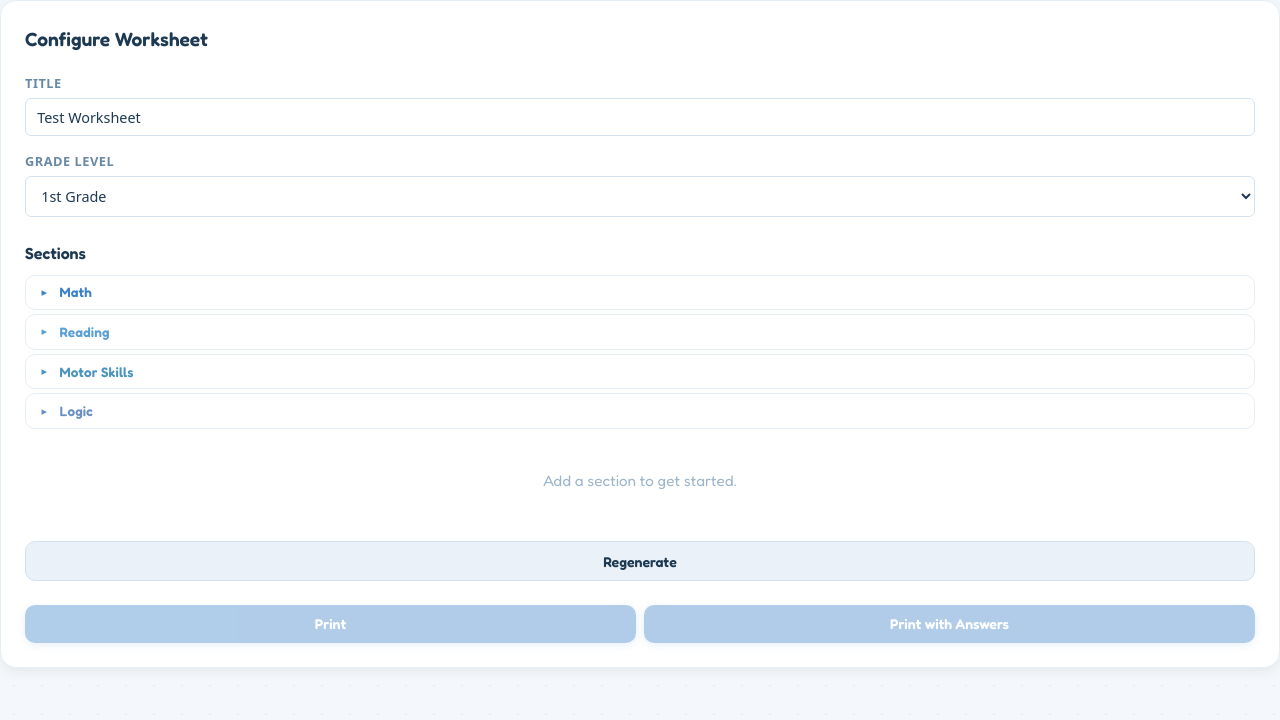
Test: ConfigPanel › shows all motor skills subtypes when expanded
Click the text "Motor Skills" at (97, 372), box x1=60 y1=364 x2=134 y2=380
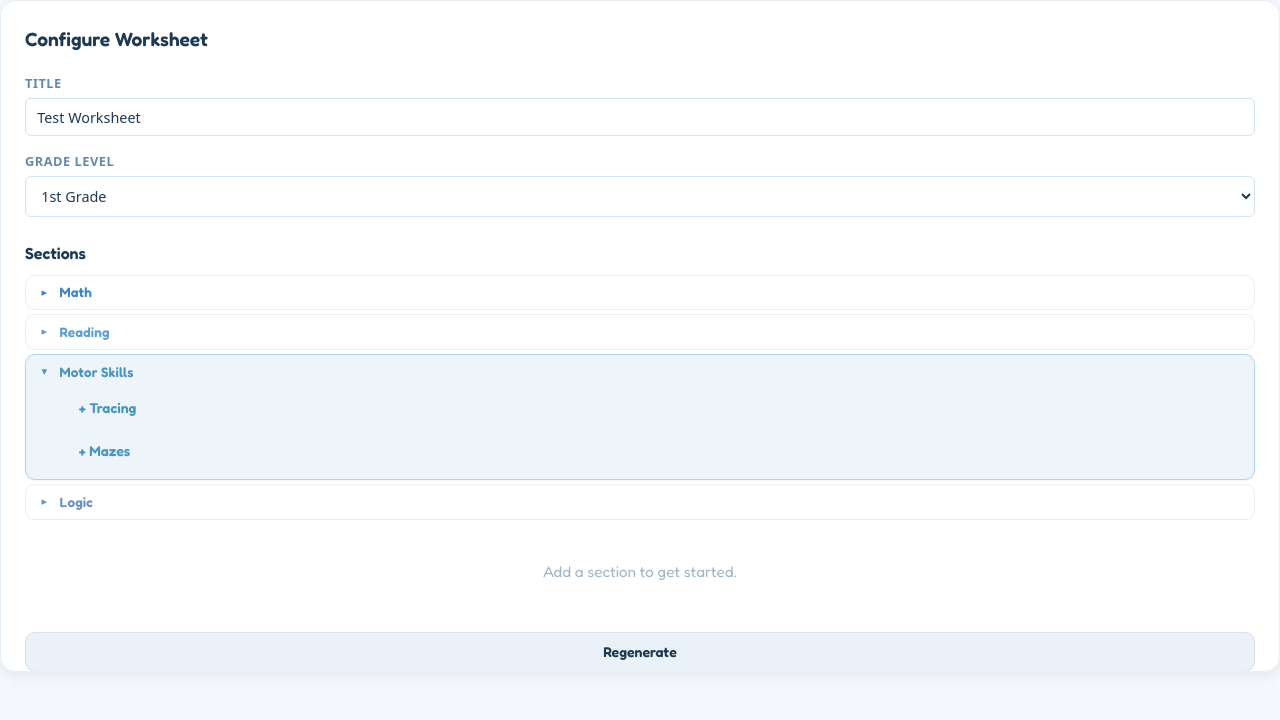
Check: the button "+ Tracing" is shown, box x1=60 y1=388 x2=156 y2=426
Check: the button "+ Mazes" is shown, box x1=60 y1=432 x2=149 y2=470
